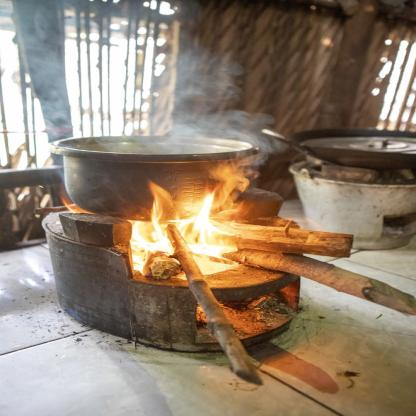fire: (58, 187, 243, 272)
smoke: (0, 0, 285, 217)
